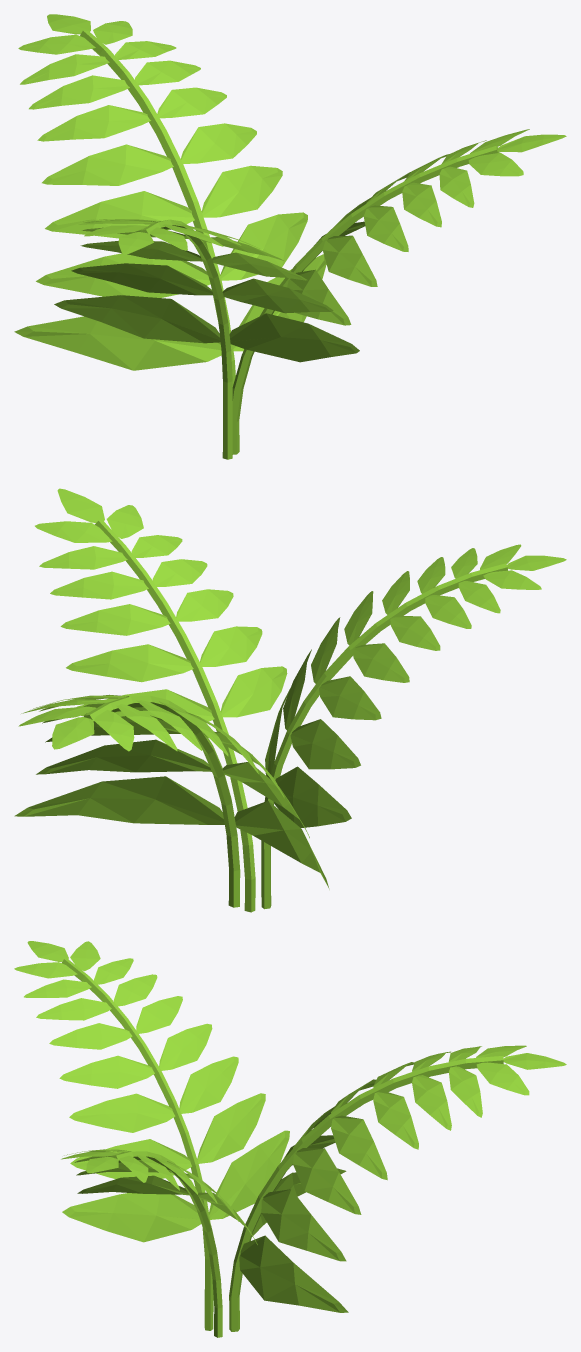
Rendered from Paproc_A.FBX.
3 renders of one model, top to bottom at view 1: azimuth 30°, elevation 25°; view 2: azimuth 150°, elevation 25°; view 3: azimuth 270°, elevation 25°, orthographic. The views are drawn at different scales.
Visible parts, largest first — view 1: Paproc_A; view 2: Paproc_A; view 3: Paproc_A.
Boxes of the visible parts, box(x1,y1,x2,y2) form: Paproc_A: box(14, 14, 566, 459); Paproc_A: box(14, 488, 566, 912); Paproc_A: box(14, 941, 566, 1337).
Size of the model in its own units: 1424 by 923 by 1541.
